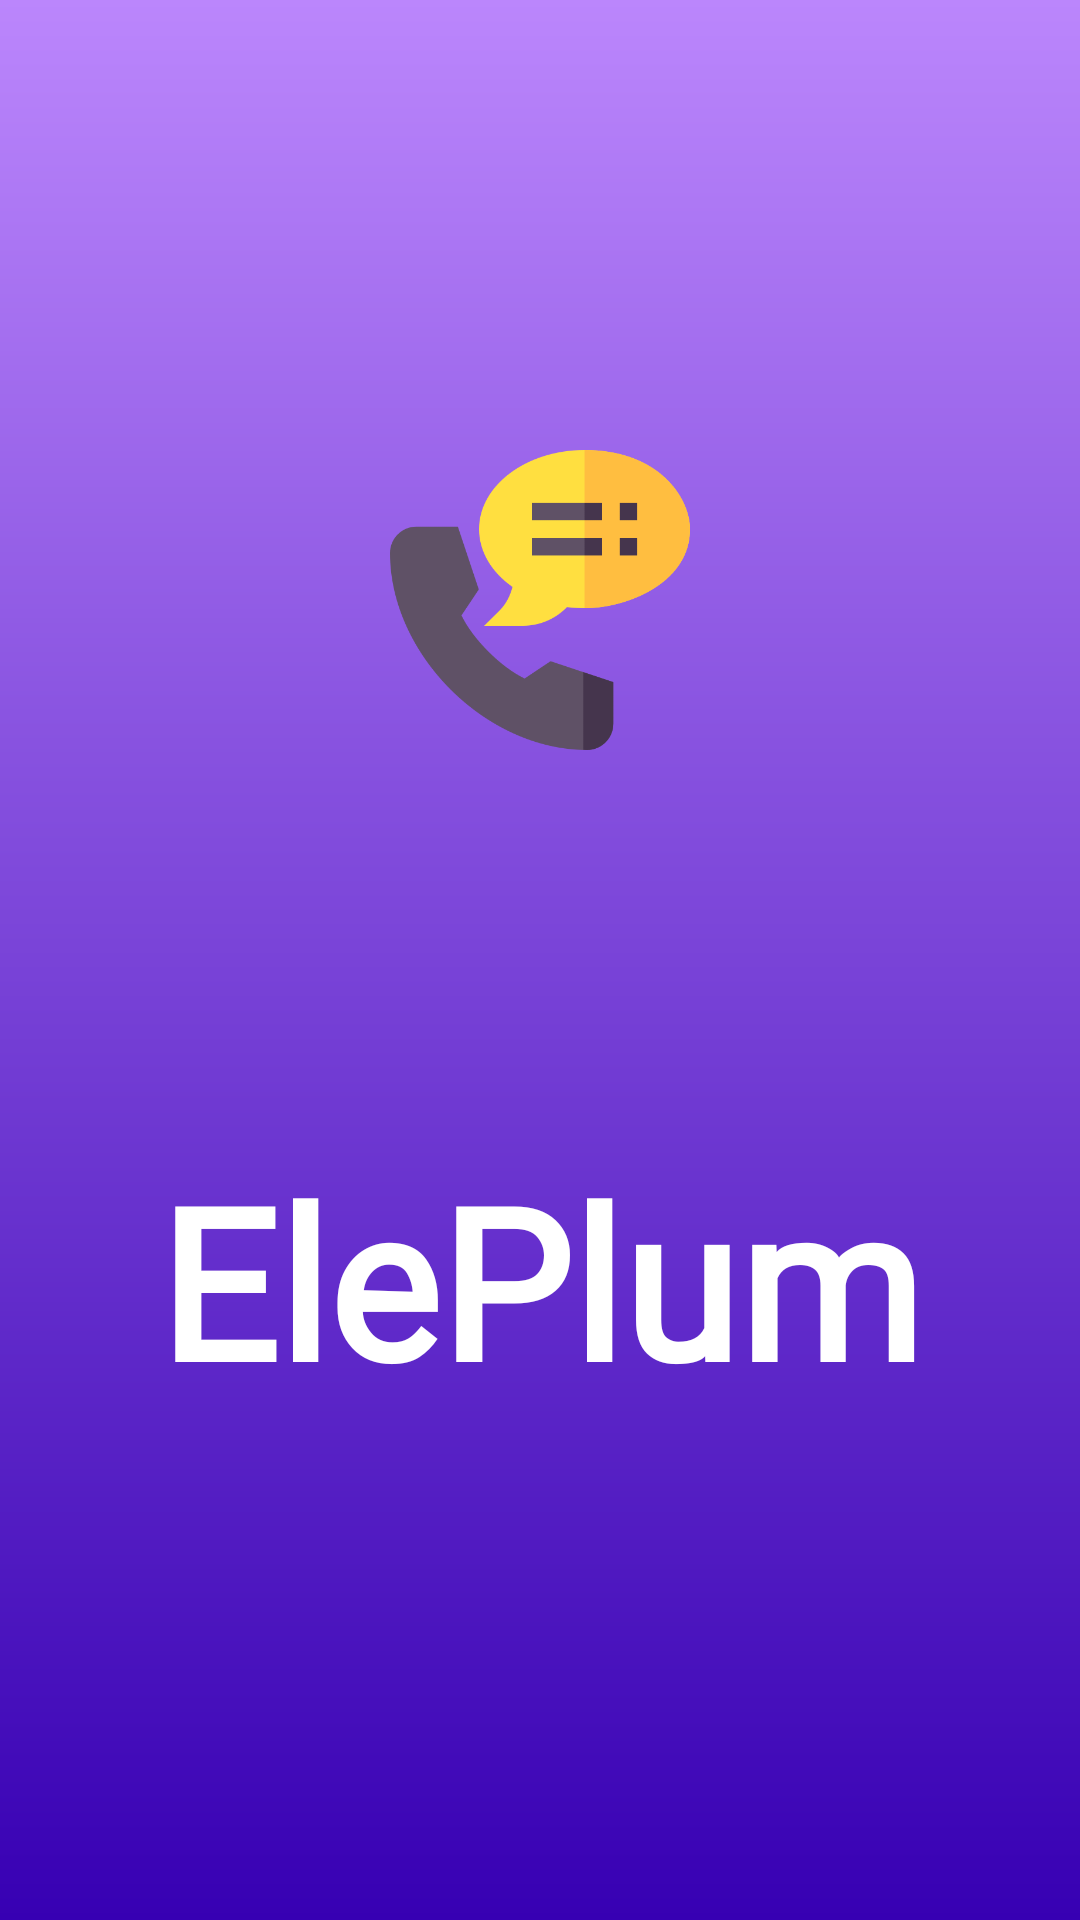

Where icons sit on this 1080*1920 app screen, as BBox(x1, y1, x2, y2):
phonecall: BBox(390, 450, 690, 750)
